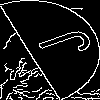J: (24, 25, 95, 68)
